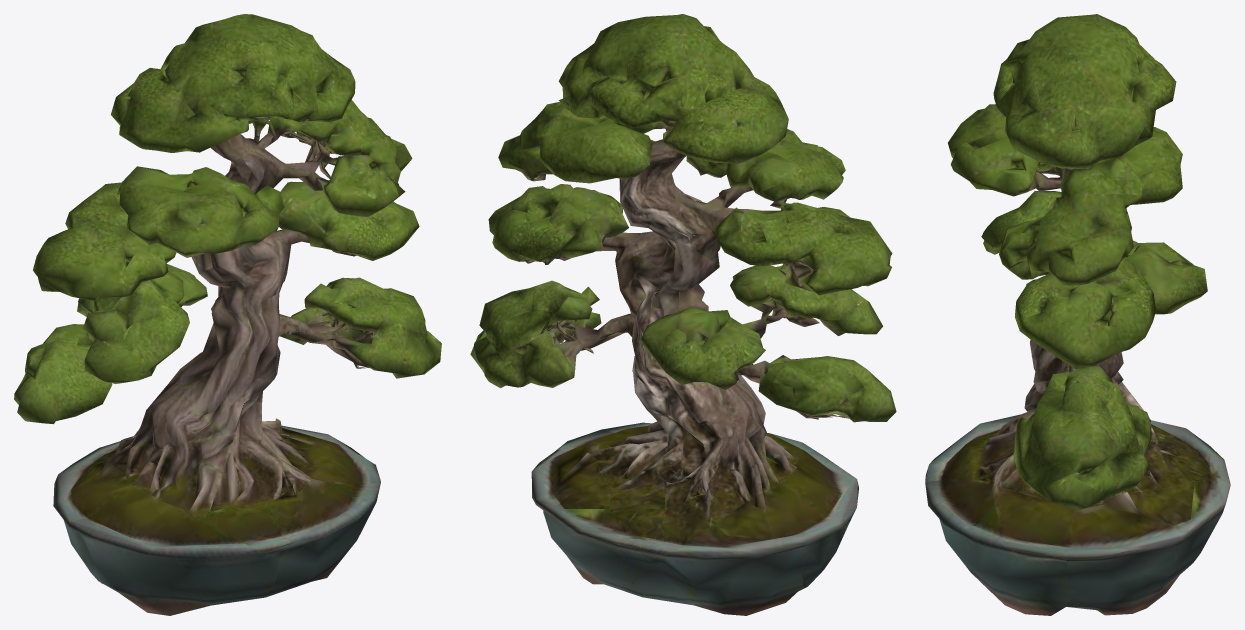
The model's file is bonsai.glb.
The picture shows the model from 3 angles, left to right: view 1: azimuth 30°, elevation 25°; view 2: azimuth 150°, elevation 25°; view 3: azimuth 270°, elevation 25°; orthographic projection. The views are drawn at different scales.
Visible parts, largest first — view 1: mesh_node; view 2: mesh_node; view 3: mesh_node.
Boxes of the visible parts, <box> form: mesh_node: <box>14,14,441,615</box>; mesh_node: <box>470,14,896,615</box>; mesh_node: <box>925,14,1230,615</box>.
Size of the model in its own units: 1.53 by 1.9 by 0.9366.
Materials: 1 (1 with a texture image).
